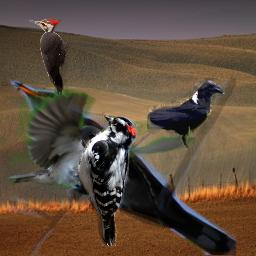Crow: (147, 79, 225, 148)
Cuckoo: (9, 78, 236, 255)
Swallow: (9, 89, 196, 188)
Woodpecker: (76, 112, 139, 246), (29, 19, 69, 95)
